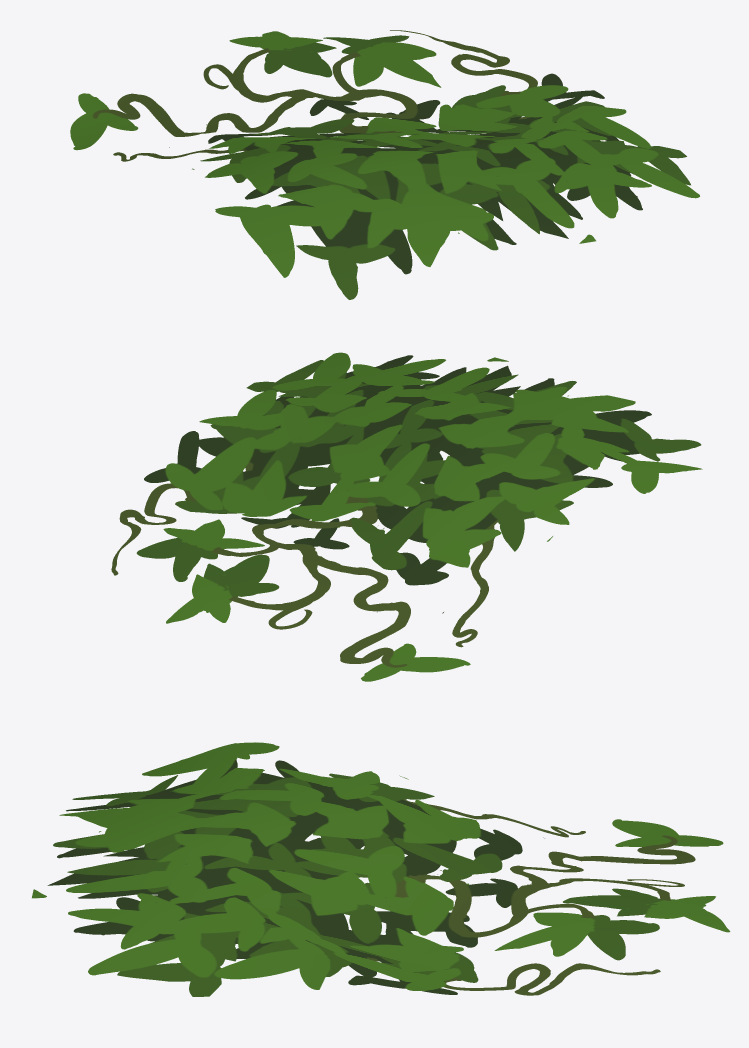
The model's file is SM_Vine07.FBX.
The picture shows the model from 3 angles, top to bottom: view 1: azimuth 30°, elevation 25°; view 2: azimuth 150°, elevation 25°; view 3: azimuth 270°, elevation 25°; orthographic projection. The views are drawn at different scales.
Visible parts, largest first — view 1: Plane007; view 2: Plane007; view 3: Plane007.
Part boxes in pixels (left/top/right/bottom): Plane007: left=70, top=30, right=699, bottom=299; Plane007: left=111, top=352, right=702, bottom=681; Plane007: left=32, top=742, right=730, bottom=996.
Size of the model in its own units: 74.86 by 11.9 by 92.47.
1 material, 1 textured.
